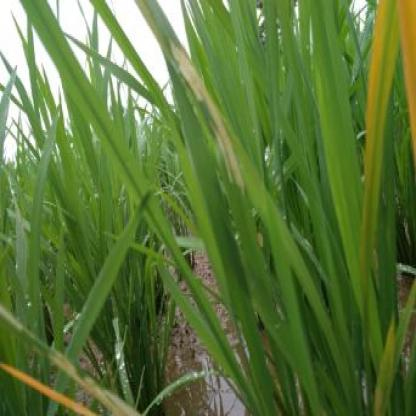Tungro: (355, 3, 415, 234)
